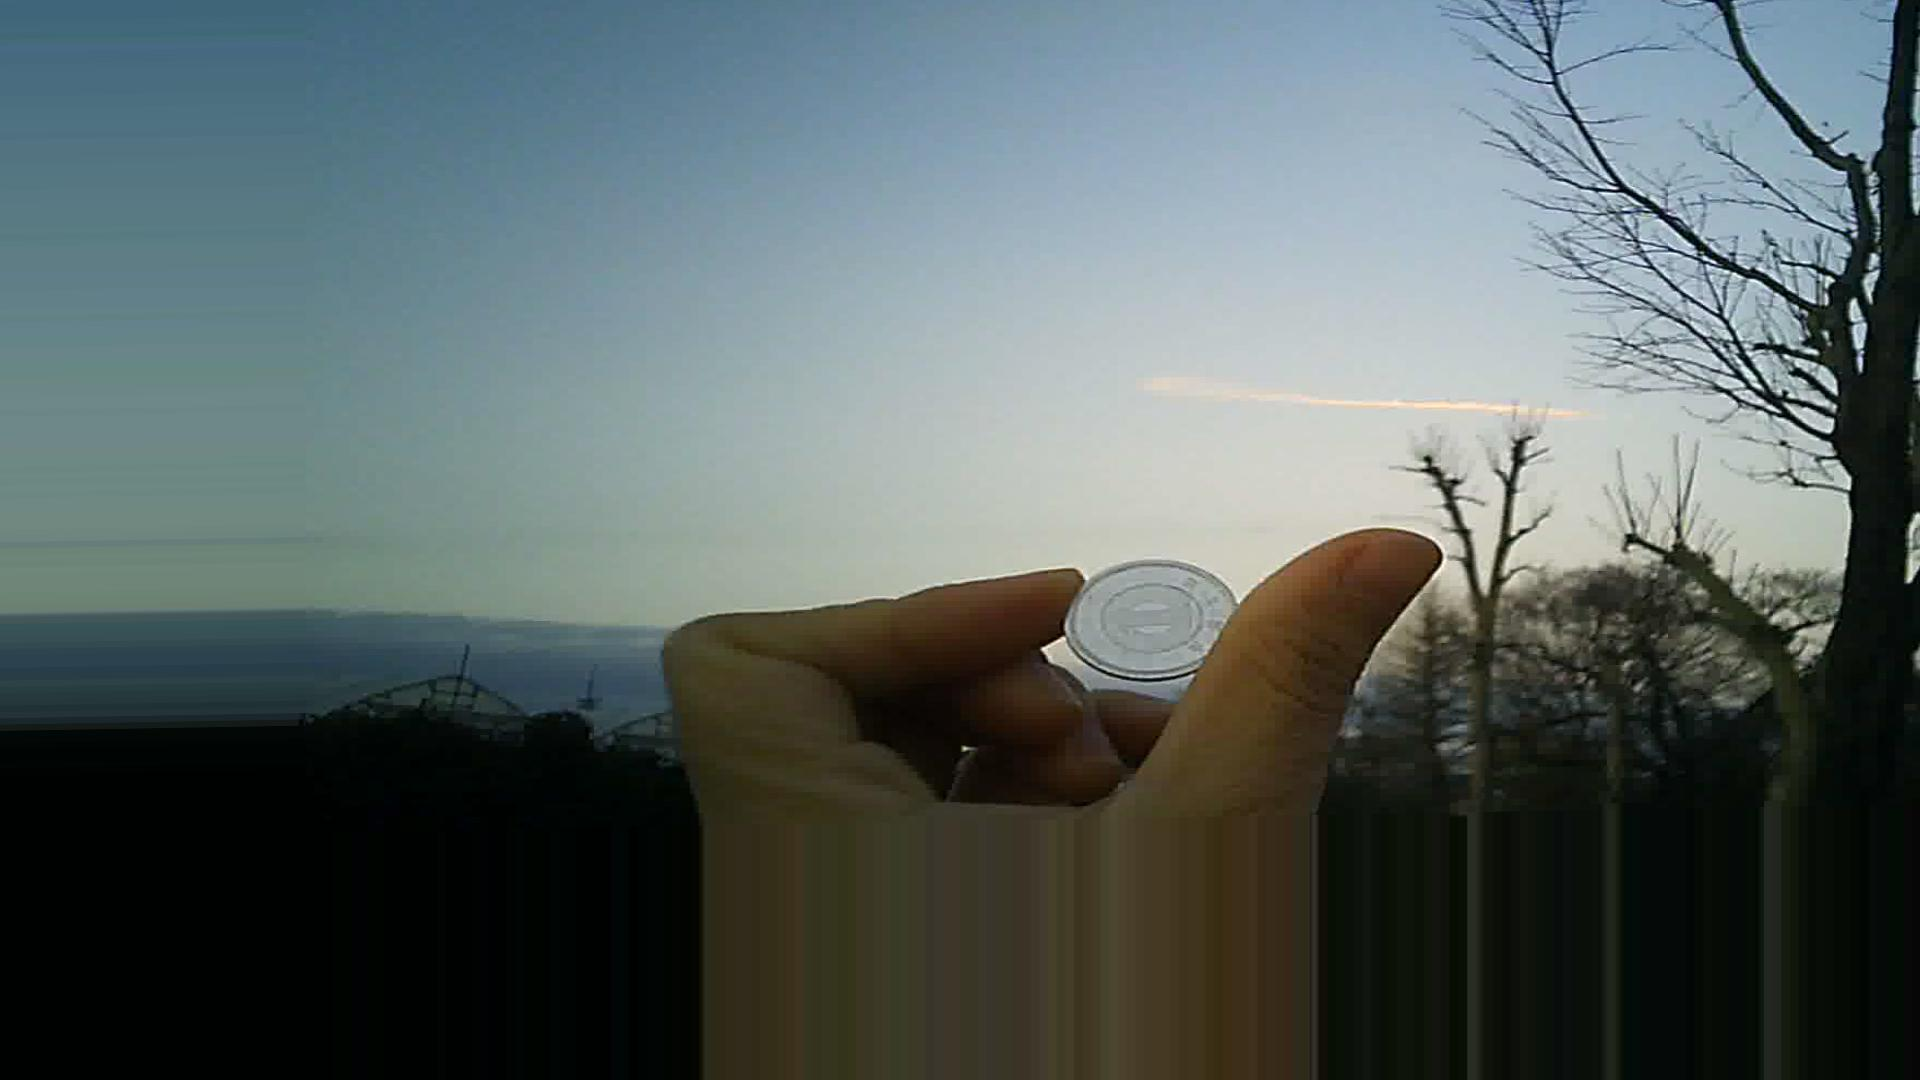1 Yen: (1069, 556, 1237, 703)
